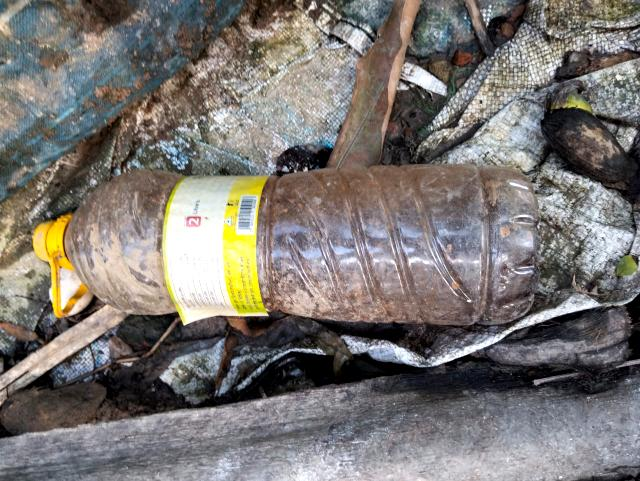bottle: (65, 160, 556, 341)
